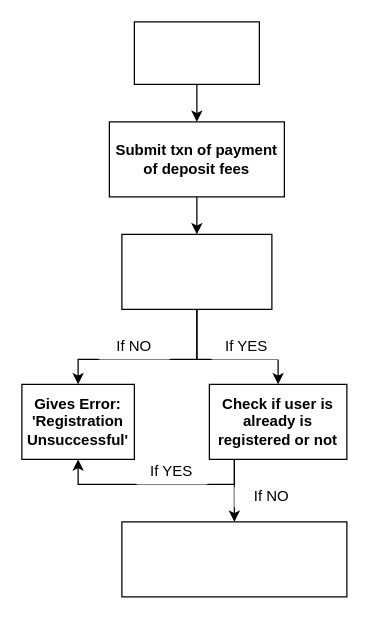
Image size: 369x619. Some labels were removed from this diagram. Here are the shapes that lost their labels. From the top down, the centre of each, then its label:
pixel 196 52: Register as Fast Checker
pixel 196 271: Check if txn of payment of deposit is valid or not
pixel 234 559: Registration is Successful - Trustworthiness is initialised to default
